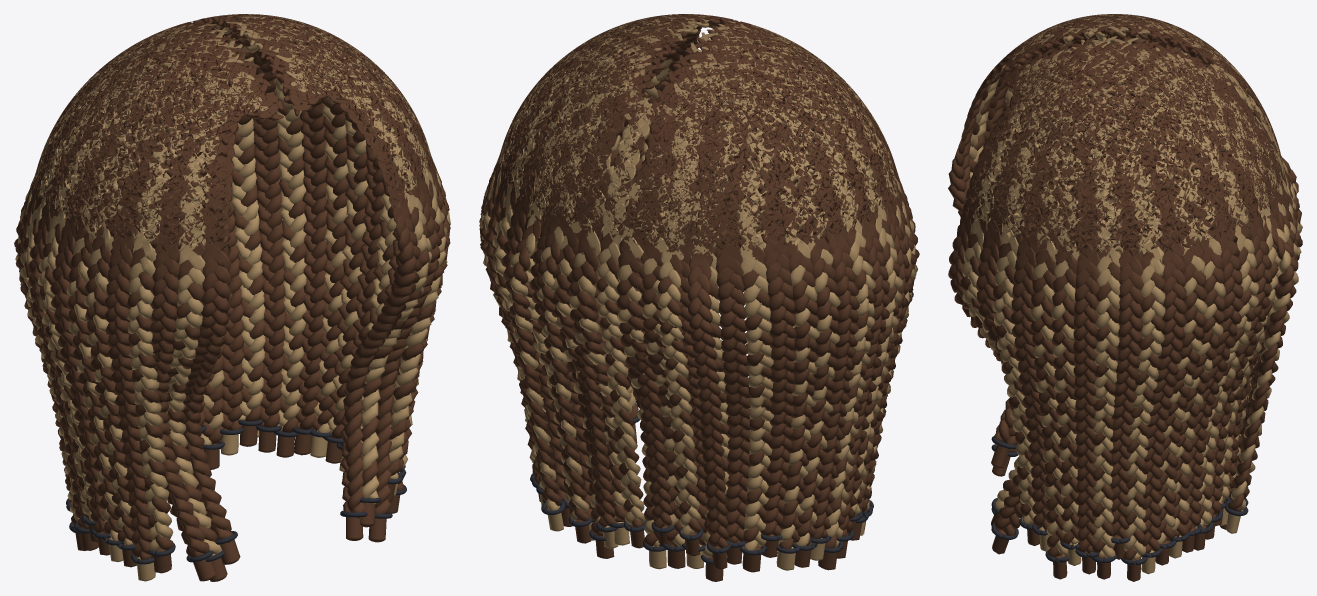
Rendered from Highlights-f68f257ad765251-hair.glb.
The picture shows the model from 3 angles, left to right: view 1: azimuth 30°, elevation 25°; view 2: azimuth 150°, elevation 25°; view 3: azimuth 270°, elevation 25°; orthographic projection. The views are drawn at different scales.
Visible parts, largest first — view 1: 226 hair / Hair / chestnut226.001, 226 hair / Hair / ties226.001; view 2: 226 hair / Hair / chestnut226.001, 226 hair / Hair / ties226.001; view 3: 226 hair / Hair / chestnut226.001, 226 hair / Hair / ties226.001.
Part boxes in pixels (<box>): 226 hair / Hair / chestnut226.001: <box>14,14,450,581</box>; 226 hair / Hair / ties226.001: <box>66,419,406,564</box>; 226 hair / Hair / chestnut226.001: <box>479,14,919,581</box>; 226 hair / Hair / ties226.001: <box>530,416,873,564</box>; 226 hair / Hair / chestnut226.001: <box>948,14,1302,581</box>; 226 hair / Hair / ties226.001: <box>991,436,1248,565</box>.
Bounding box in the file's own units: 1.07 × 1.29 × 0.8592.
